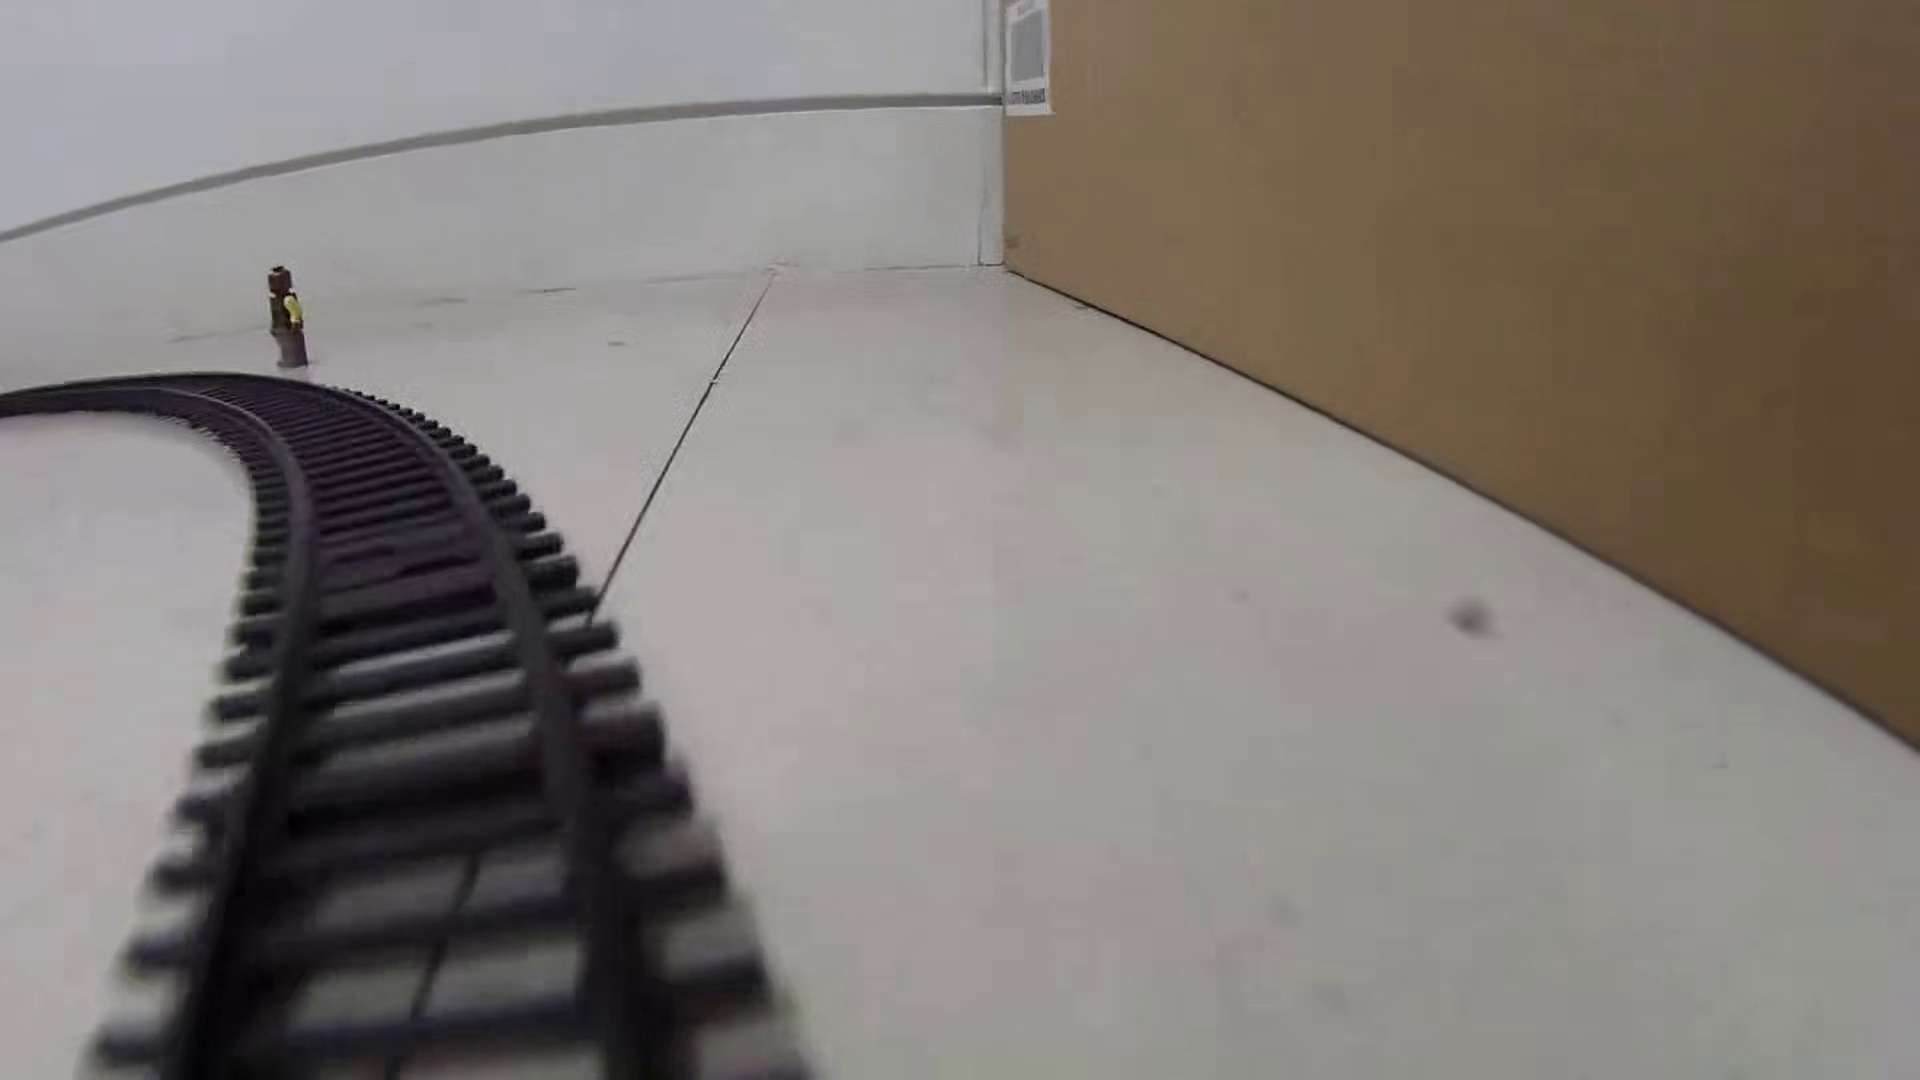people: (264, 263, 313, 371)
